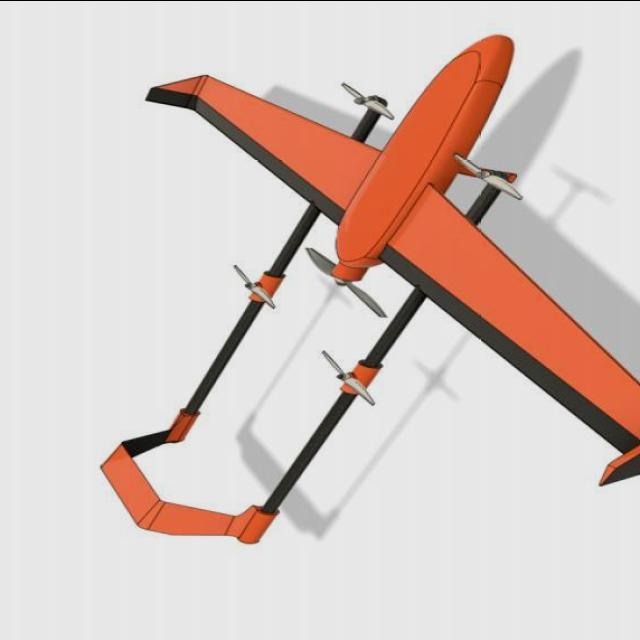plane: (98, 32, 640, 546)
